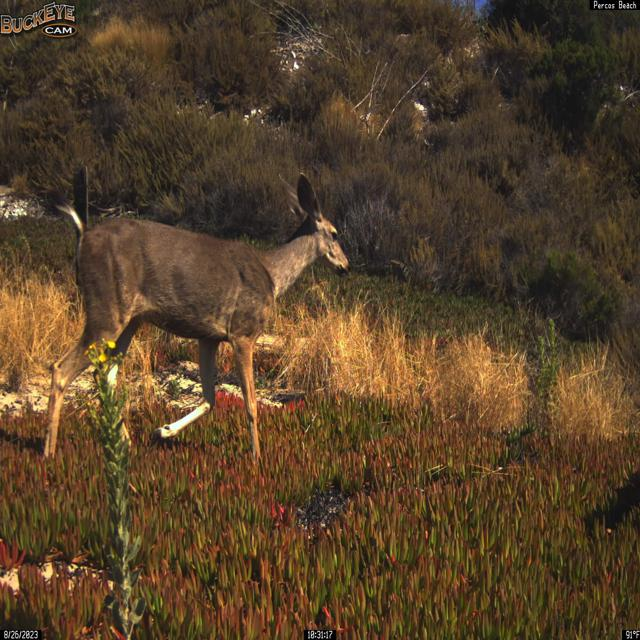deer: (41, 172, 352, 468)
